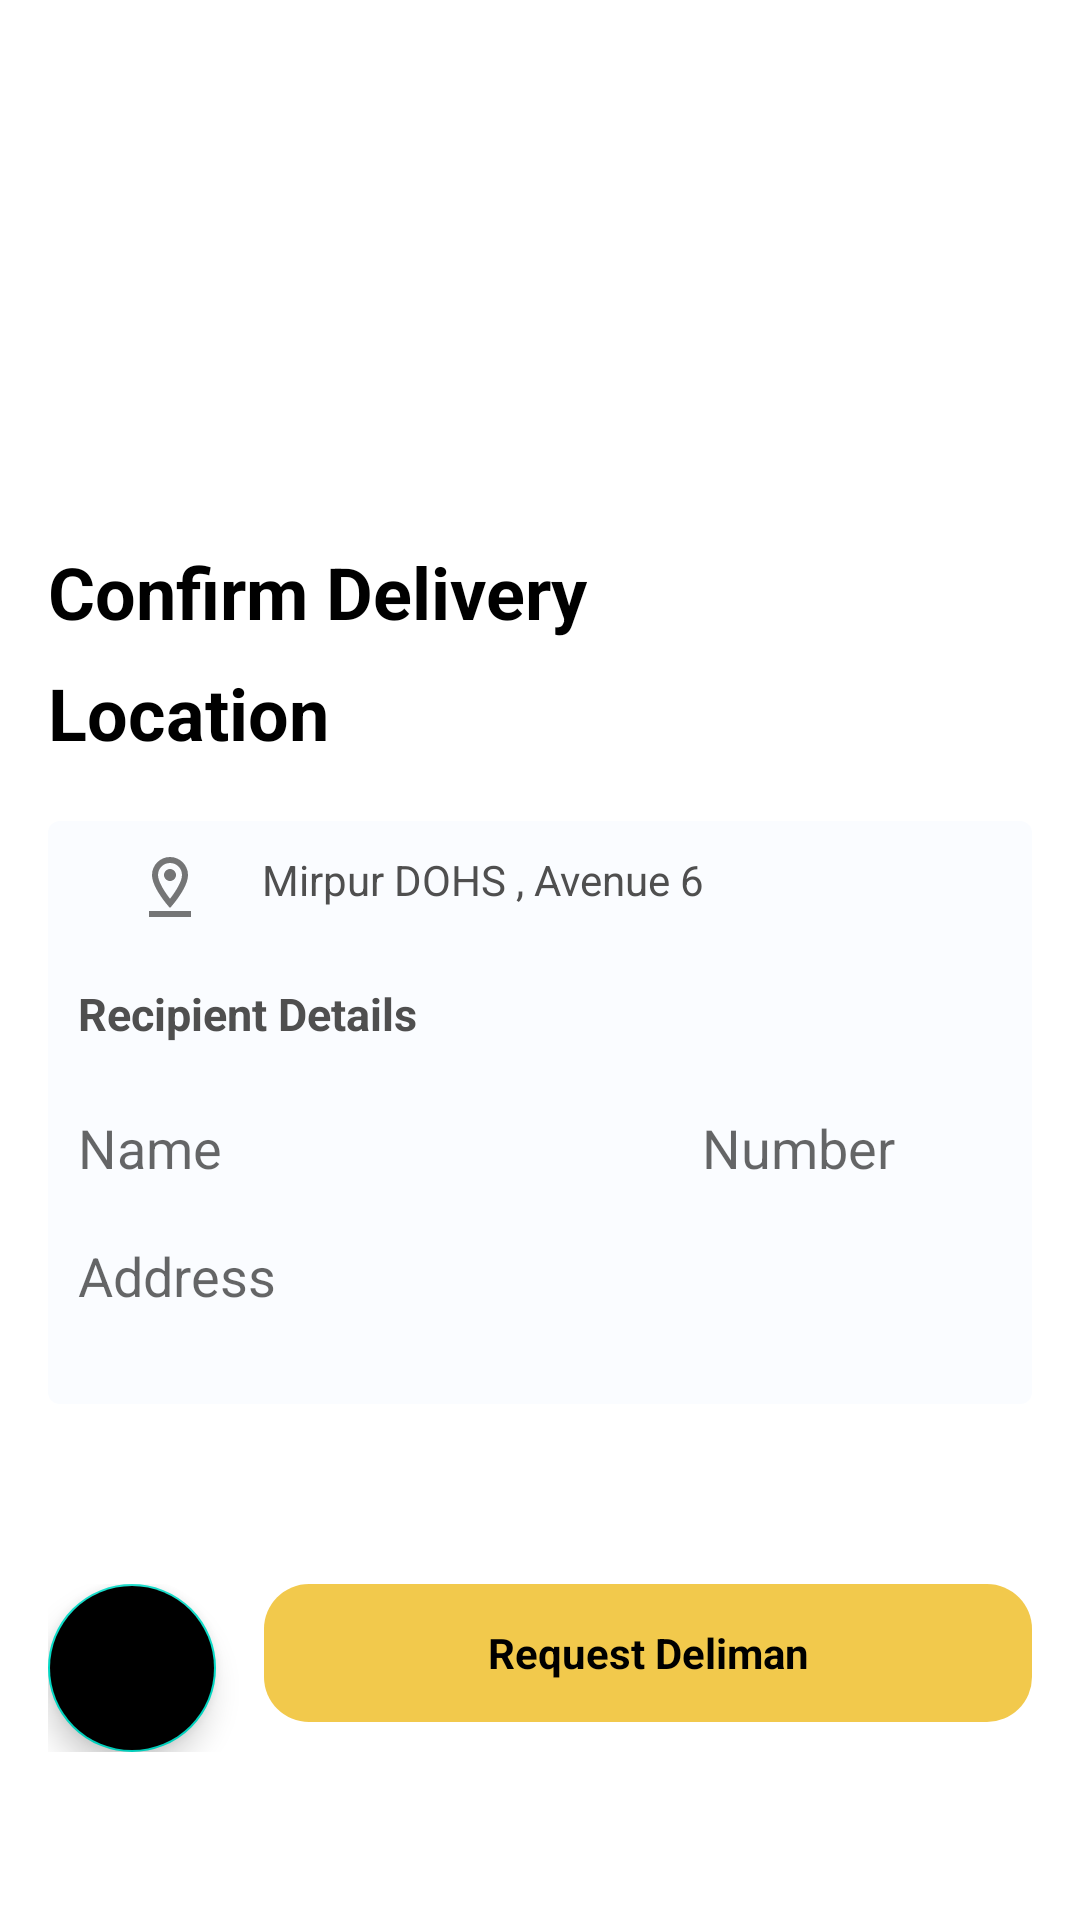

Icons on this 1080 × 1920 Android screen, each with the point to tap as [x,y]:
pin drop: [170,887]
